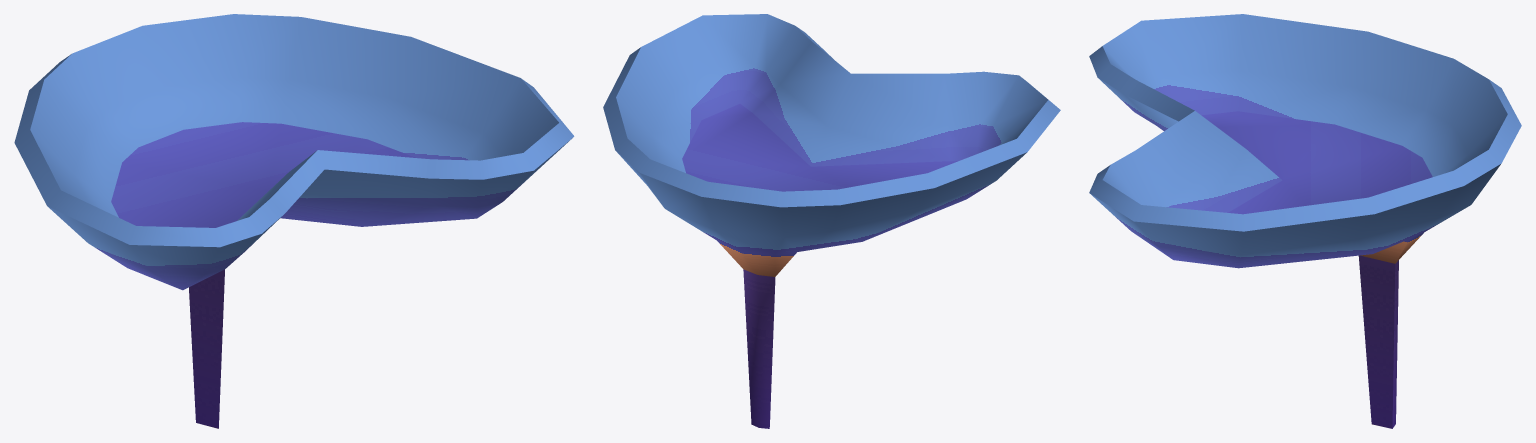
Rendered from D_CoralReef.185.glb.
3 views of the same model, side by side, from view 1: azimuth 30°, elevation 25°; view 2: azimuth 150°, elevation 25°; view 3: azimuth 270°, elevation 25° (orthographic). The views are drawn at different scales.
Parts seen in each view (by area): view 1: D_CoralReef.185; view 2: D_CoralReef.185; view 3: D_CoralReef.185.
Boxes of the visible parts, <box> form: D_CoralReef.185: <box>14,14,574,428</box>; D_CoralReef.185: <box>603,14,1060,428</box>; D_CoralReef.185: <box>1089,14,1521,428</box>.
Bounding box in the file's own units: 0.5007 × 0.3454 × 0.4319.
Materials: 1 (1 with a texture image).
